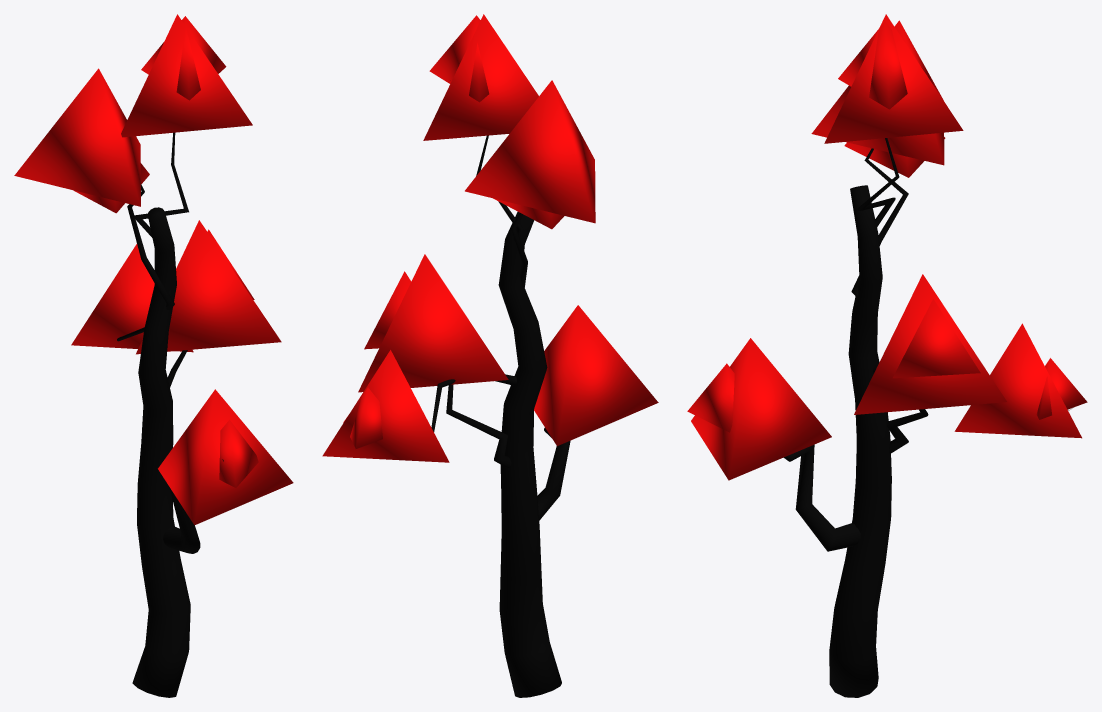
File: MalachiTree.fbx
3 views of the same model, side by side, from view 1: azimuth 30°, elevation 25°; view 2: azimuth 150°, elevation 25°; view 3: azimuth 270°, elevation 25° (orthographic). The views are drawn at different scales.
Parts seen in each view (by area): view 1: merge1; view 2: merge1; view 3: merge1.
Part boxes in pixels (x1=…): merge1: x1=14, y1=14, x2=293, y2=697; merge1: x1=322, y1=14, x2=658, y2=697; merge1: x1=687, y1=14, x2=1087, y2=697.
Size of the model in its own units: 10.32 by 29 by 15.18.
